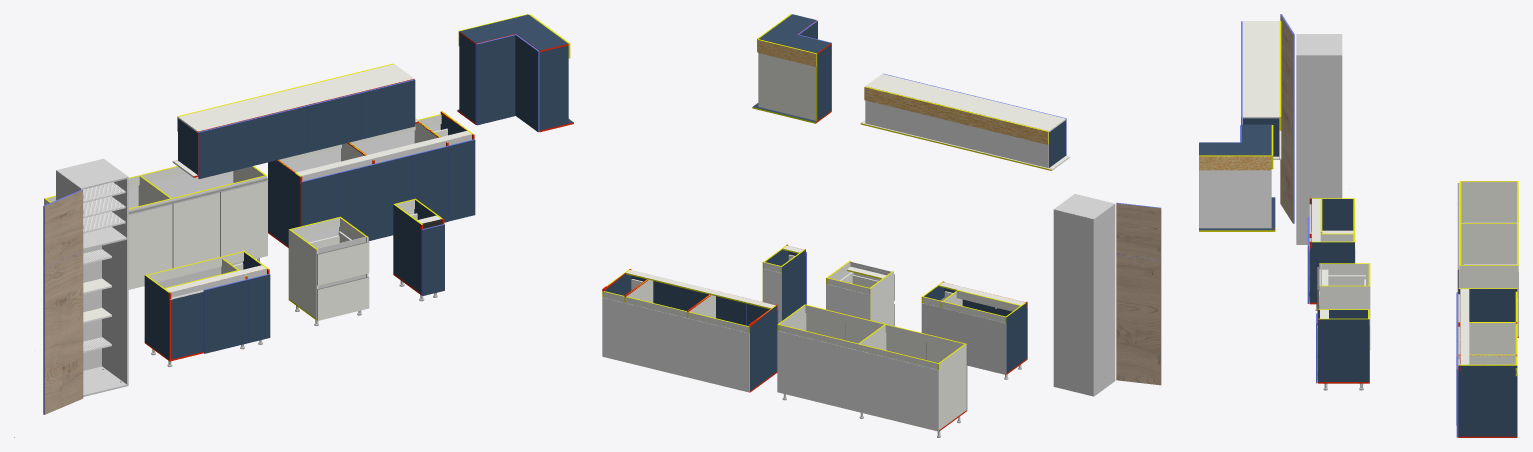
The model's file is Modulos Parametrizados.glb.
3 renders of one model, left to right at view 1: azimuth 30°, elevation 25°; view 2: azimuth 150°, elevation 25°; view 3: azimuth 270°, elevation 25°, orthographic. The views are drawn at different scales.
Parts seen in each view (by area): view 1: G-Object.025, G-Object.574, G-Object.008, G-Object.459, G-Object.535, G-Object.469, G-Object.464, G-Object.166, G-Object.595, G-Object.610, G-Object.605, G-Object.600 (+35 smaller); view 2: C-Fondo M1#3, C-Fondo 3mm M3#6, G-Object.025, C-Fondo M2#71, C-Fondo 3mm M3#10, C-Fondo M2#79, G-Object.004, C-Fondo M2#9, G-Object.574, G-Object.498, G-Object.559, G-Object.030 (+21 smaller); view 3: G-Object.008, G-Object.398, C-Fondo 3mm M3#8, G-Object.574, G-Object.300, G-Object.434, G-Object.479, G-Object.025, G-Object.356, G-Object.427, G-Object.351, G-Object.124 (+14 smaller).
Part boxes in pixels (bbox=[...]): G-Object.025: bbox=[44, 251, 83, 414]; G-Object.574: bbox=[178, 64, 414, 131]; G-Object.008: bbox=[102, 179, 126, 384]; G-Object.459: bbox=[221, 181, 267, 258]; G-Object.535: bbox=[477, 35, 515, 125]; G-Object.469: bbox=[173, 193, 220, 268]; G-Object.464: bbox=[128, 204, 172, 289]; G-Object.166: bbox=[204, 280, 247, 353]; G-Object.595: bbox=[361, 80, 415, 139]; G-Object.610: bbox=[253, 106, 307, 165]; G-Object.605: bbox=[307, 93, 361, 152]; G-Object.600: bbox=[199, 119, 252, 178]; C-Fondo M1#3: bbox=[777, 331, 938, 431]; C-Fondo 3mm M3#6: bbox=[1053, 209, 1093, 396]; G-Object.025: bbox=[1116, 255, 1160, 385]; C-Fondo M2#71: bbox=[625, 303, 749, 392]; C-Fondo 3mm M3#10: bbox=[865, 86, 1048, 168]; C-Fondo M2#79: bbox=[602, 297, 687, 377]; G-Object.004: bbox=[1094, 205, 1115, 394]; C-Fondo M2#9: bbox=[921, 303, 1006, 374]; G-Object.574: bbox=[865, 74, 1065, 130]; G-Object.498: bbox=[758, 53, 815, 120]; G-Object.559: bbox=[864, 87, 1047, 144]; G-Object.030: bbox=[1116, 203, 1160, 260]; G-Object.008: bbox=[1296, 56, 1341, 243]; G-Object.398: bbox=[1458, 365, 1517, 436]; C-Fondo 3mm M3#8: bbox=[1199, 170, 1271, 228]; G-Object.574: bbox=[1243, 21, 1279, 116]; G-Object.300: bbox=[1318, 319, 1369, 381]; G-Object.434: bbox=[1461, 181, 1516, 222]; G-Object.479: bbox=[1461, 223, 1516, 264]; G-Object.025: bbox=[1280, 72, 1292, 223]; G-Object.356: bbox=[1458, 289, 1517, 321]; G-Object.427: bbox=[1459, 265, 1518, 336]; G-Object.351: bbox=[1458, 323, 1515, 354]; G-Object.124: bbox=[1309, 242, 1354, 302].
Size of the model in its own units: 6.33 by 3.44 by 3.52.
Materials: 23 (7 with a texture image).
